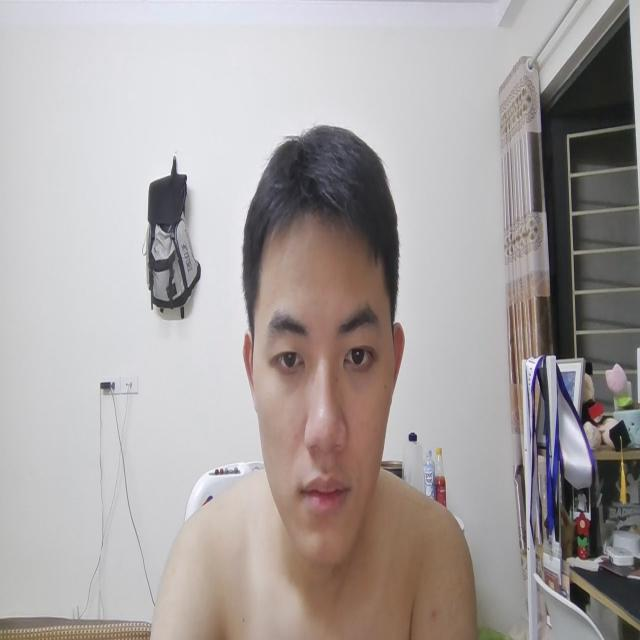student: (141, 121, 473, 640)
